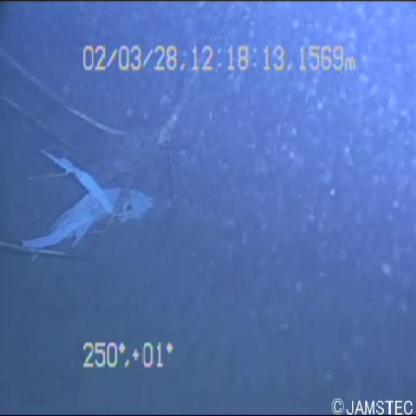Rác: (28, 120, 164, 265)
